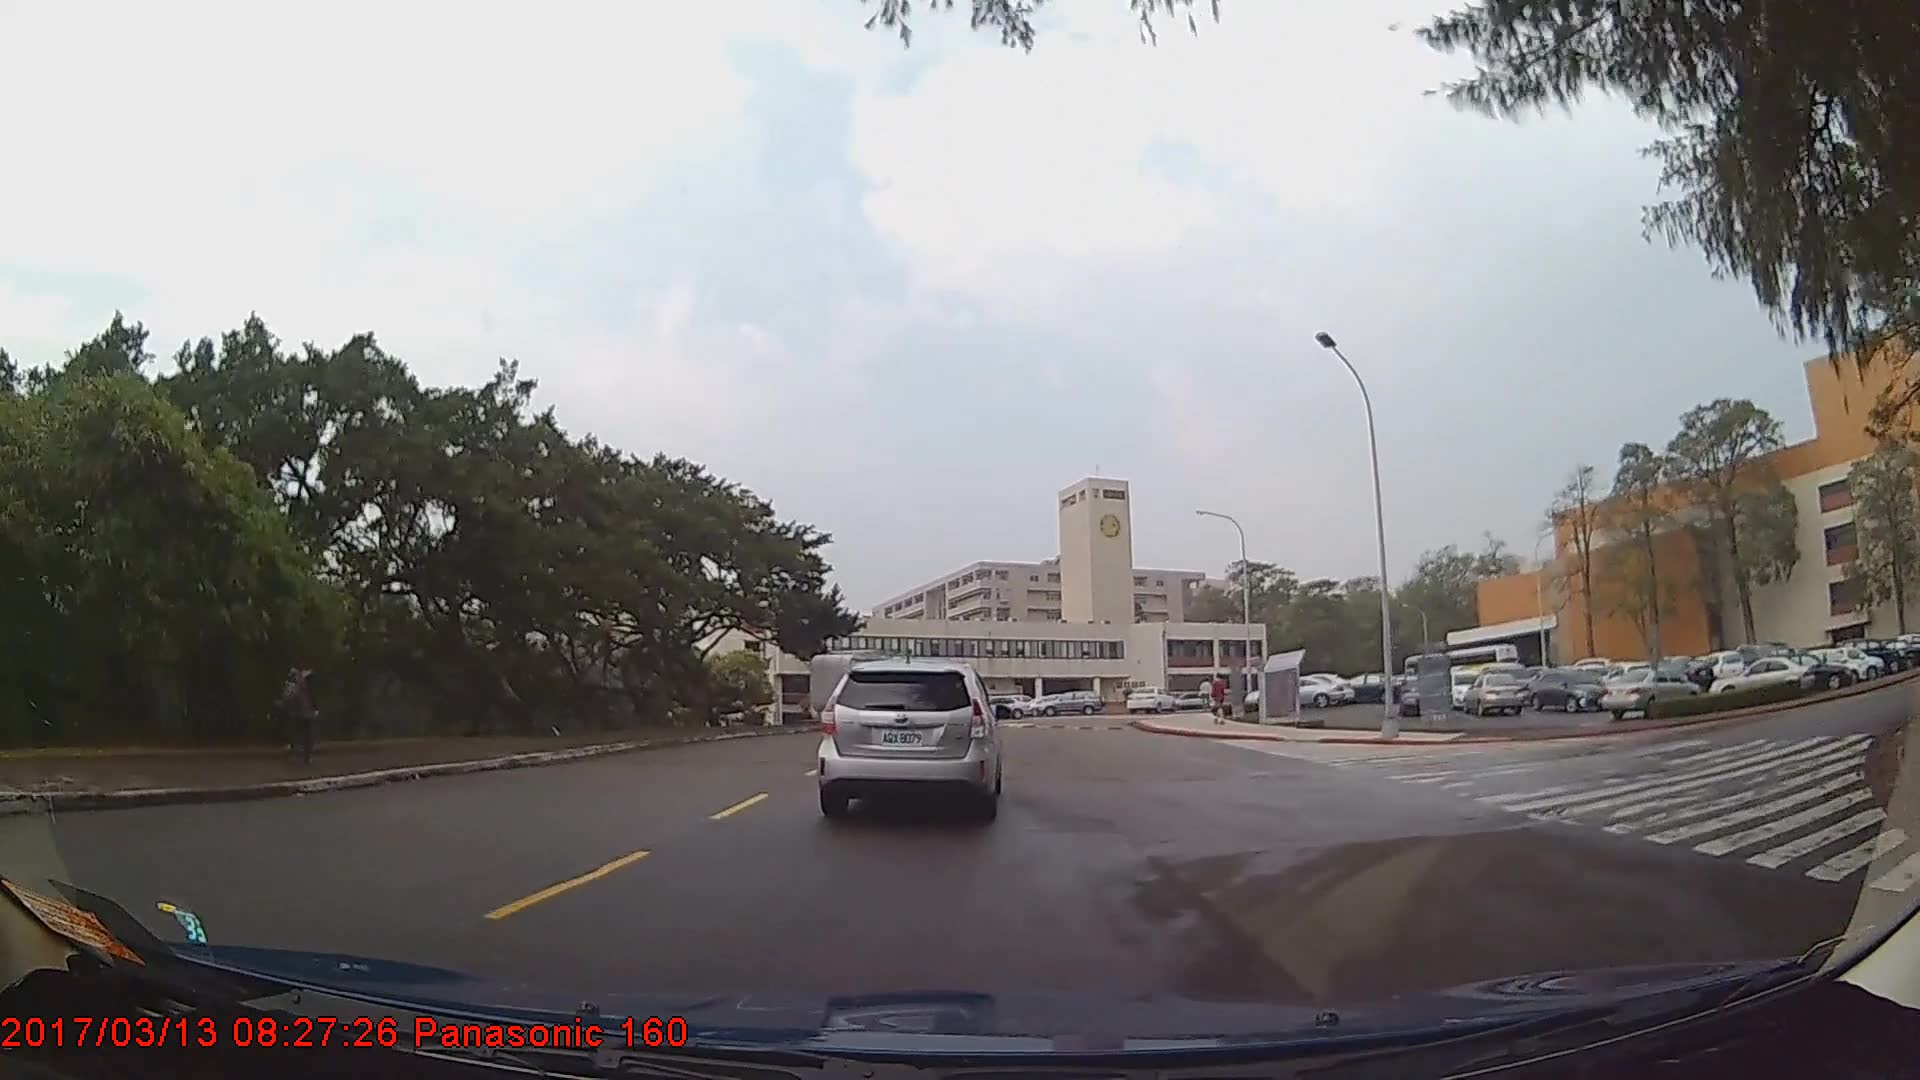pedestrian: (267, 648, 318, 763), (1209, 673, 1230, 727)
vehicle: (818, 658, 997, 819), (1708, 656, 1813, 705), (1604, 666, 1698, 721), (1755, 651, 1851, 695), (1531, 667, 1611, 713), (1245, 675, 1341, 711), (1463, 672, 1525, 719), (1336, 672, 1404, 705), (1037, 690, 1105, 717), (1395, 677, 1437, 715), (1124, 686, 1173, 716), (975, 695, 1033, 720)
